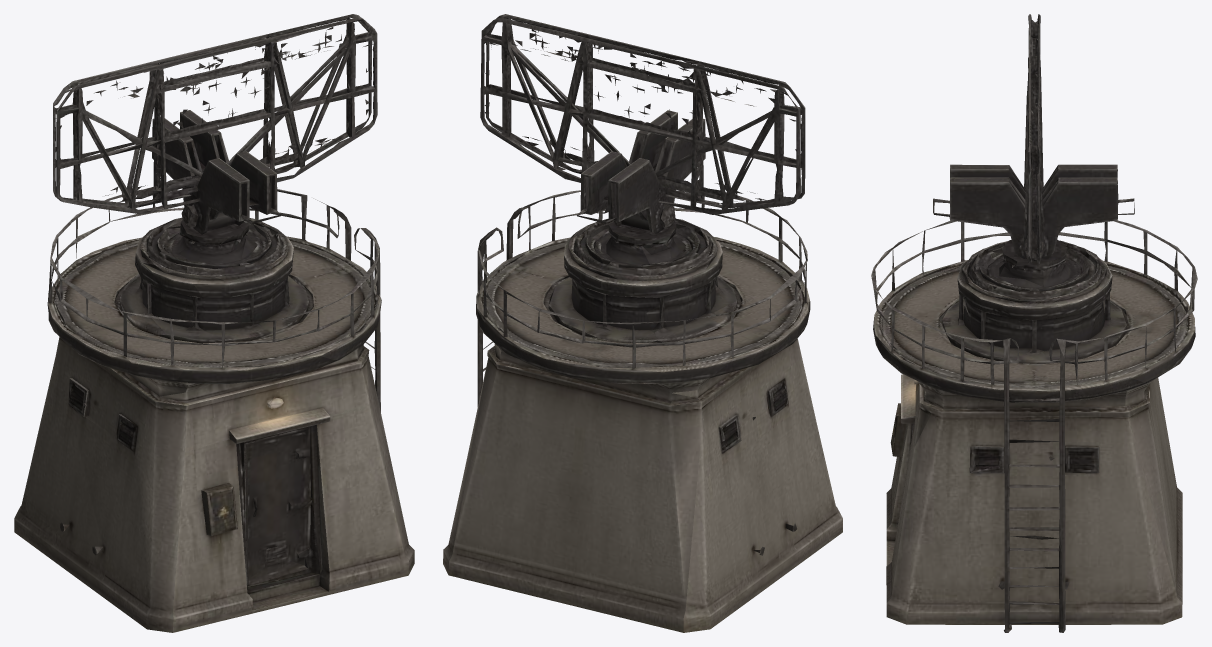
File: radar_sentinel.glb
The picture shows the model from 3 angles, left to right: view 1: azimuth 30°, elevation 25°; view 2: azimuth 150°, elevation 25°; view 3: azimuth 270°, elevation 25°; orthographic projection. The views are drawn at different scales.
Visible parts, largest first — view 1: radar_sentinel; view 2: radar_sentinel; view 3: radar_sentinel.
Part boxes in pixels (box(x1,y1,x2,y2)): radar_sentinel: box(14, 14, 414, 632); radar_sentinel: box(443, 14, 842, 632); radar_sentinel: box(871, 14, 1197, 632).
Size of the model in its own units: 1.27 by 1.9 by 1.17.
Materials: 1 (1 with a texture image).
